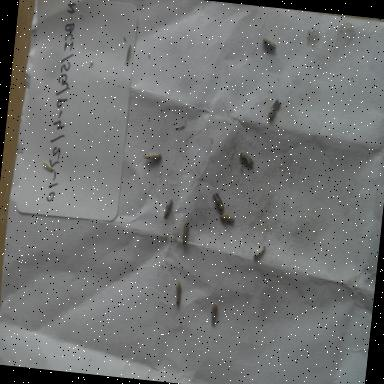pbw: (210, 189, 229, 215), (215, 209, 237, 229), (171, 280, 185, 308), (237, 150, 256, 170), (266, 98, 282, 121), (161, 196, 175, 222), (207, 301, 220, 328), (142, 147, 163, 163), (179, 220, 191, 246), (250, 243, 268, 260), (260, 36, 279, 52)
